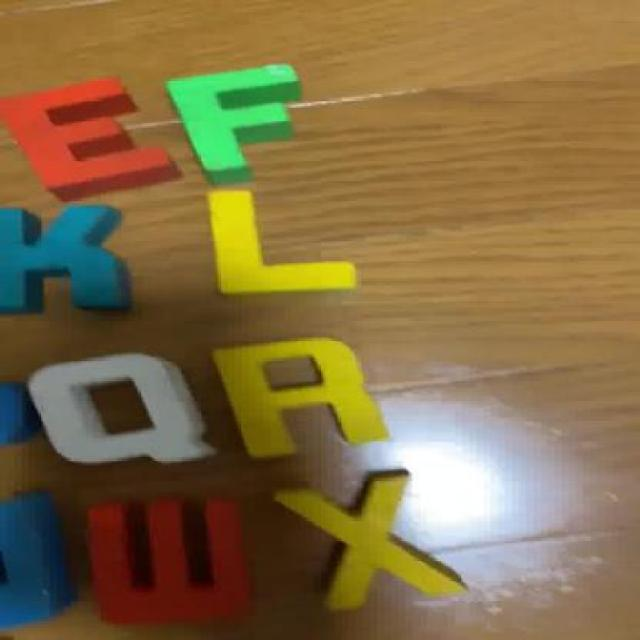E: (7, 77, 181, 198)
F: (160, 61, 306, 182)
K: (0, 205, 135, 314)
L: (198, 187, 372, 299)
Q: (39, 352, 206, 468)
R: (215, 333, 396, 455)
W: (79, 498, 253, 618)
X: (282, 472, 460, 608)
